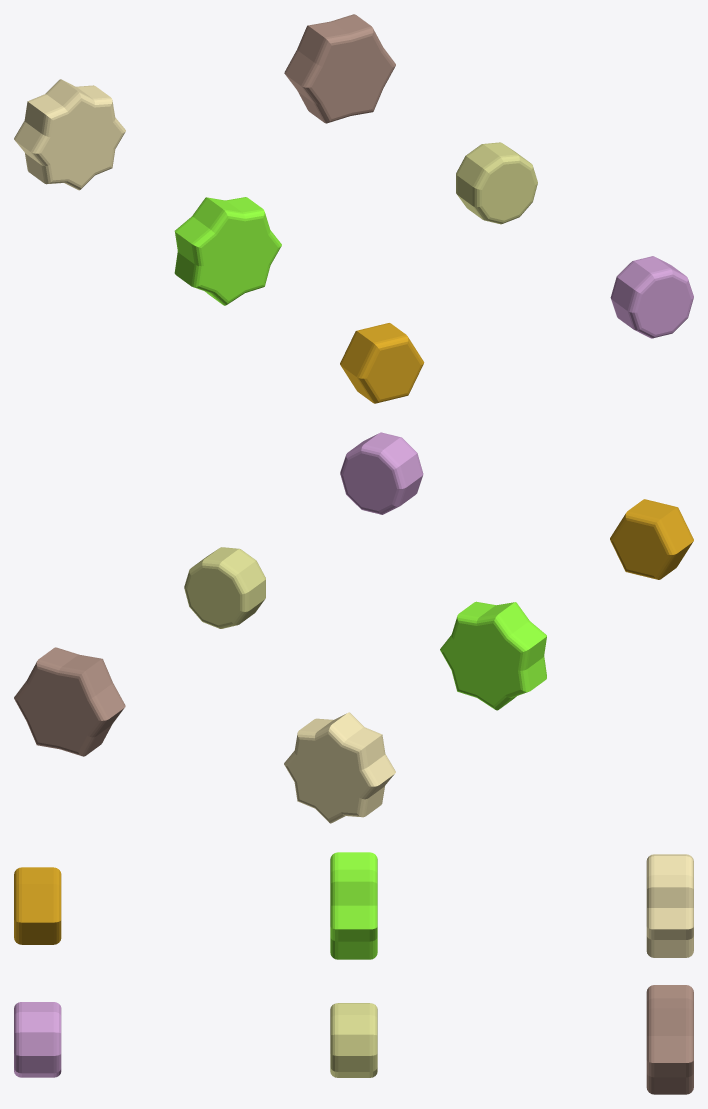
The model's file is Lambert Flat_Linear_2023-07-23-20-47-44 copy.gltf.
The picture shows the model from 3 angles, top to bottom: view 1: azimuth 30°, elevation 25°; view 2: azimuth 150°, elevation 25°; view 3: azimuth 270°, elevation 25°; orthographic projection.
Bounding box in the file's own units: 270 × 69.86 × 430.
